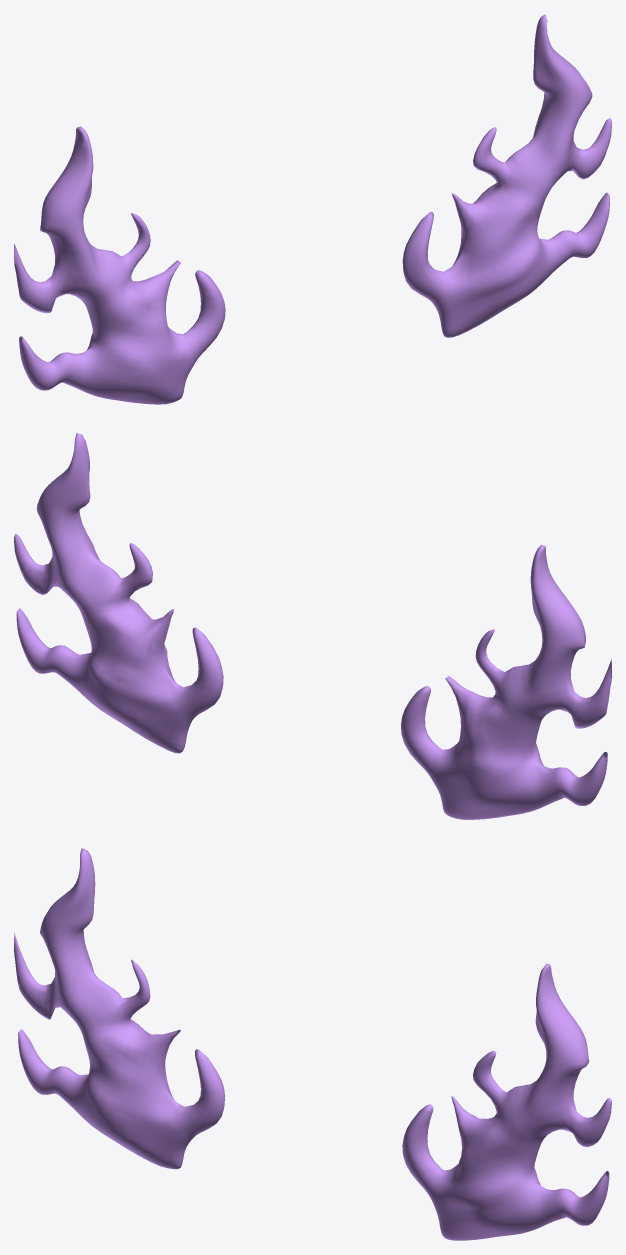
The model's file is Shadow Horns.glb.
The picture shows the model from 3 angles, top to bottom: view 1: azimuth 30°, elevation 25°; view 2: azimuth 150°, elevation 25°; view 3: azimuth 330°, elevation 25°; orthographic projection.
Parts seen in each view (by area): view 1: Horn; view 2: Horn; view 3: Horn.
Boxes of the visible parts, x1,y1,x2,y2 form: Horn: (14,14,611,404); Horn: (14,433,611,819); Horn: (14,848,611,1240).
Bounding box in the file's own units: 0.6176 × 0.2961 × 0.0694.
Materials: 1 (1 with a texture image).
